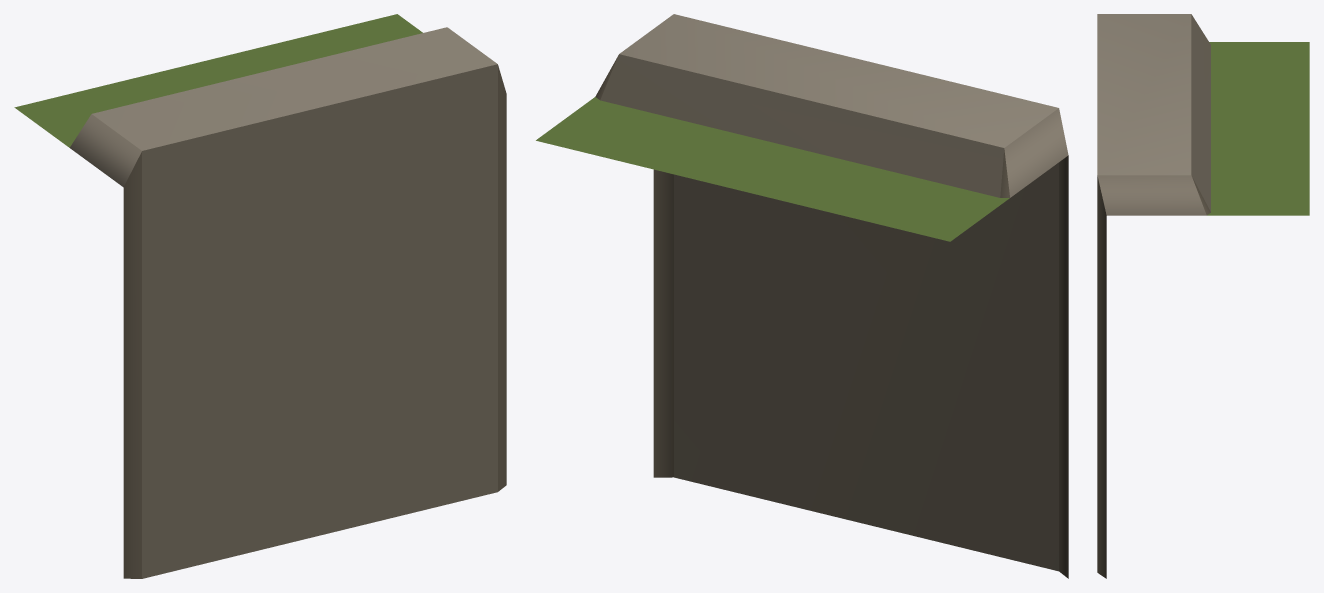
File: SF_Bld_Elven_Blockwall_01.fbx
The picture shows the model from 3 angles, left to right: view 1: azimuth 30°, elevation 25°; view 2: azimuth 150°, elevation 25°; view 3: azimuth 270°, elevation 25°; orthographic projection. The views are drawn at different scales.
Parts seen in each view (by area): view 1: SF_Bld_Elven_Blockwall_01; view 2: SF_Bld_Elven_Blockwall_01; view 3: SF_Bld_Elven_Blockwall_01.
Boxes of the visible parts, bbox=[...] form: SF_Bld_Elven_Blockwall_01: bbox=[14, 14, 506, 578]; SF_Bld_Elven_Blockwall_01: bbox=[536, 14, 1068, 578]; SF_Bld_Elven_Blockwall_01: bbox=[1097, 14, 1309, 578].
Bounding box in the file's own units: 10 × 10.67 × 5.16.
